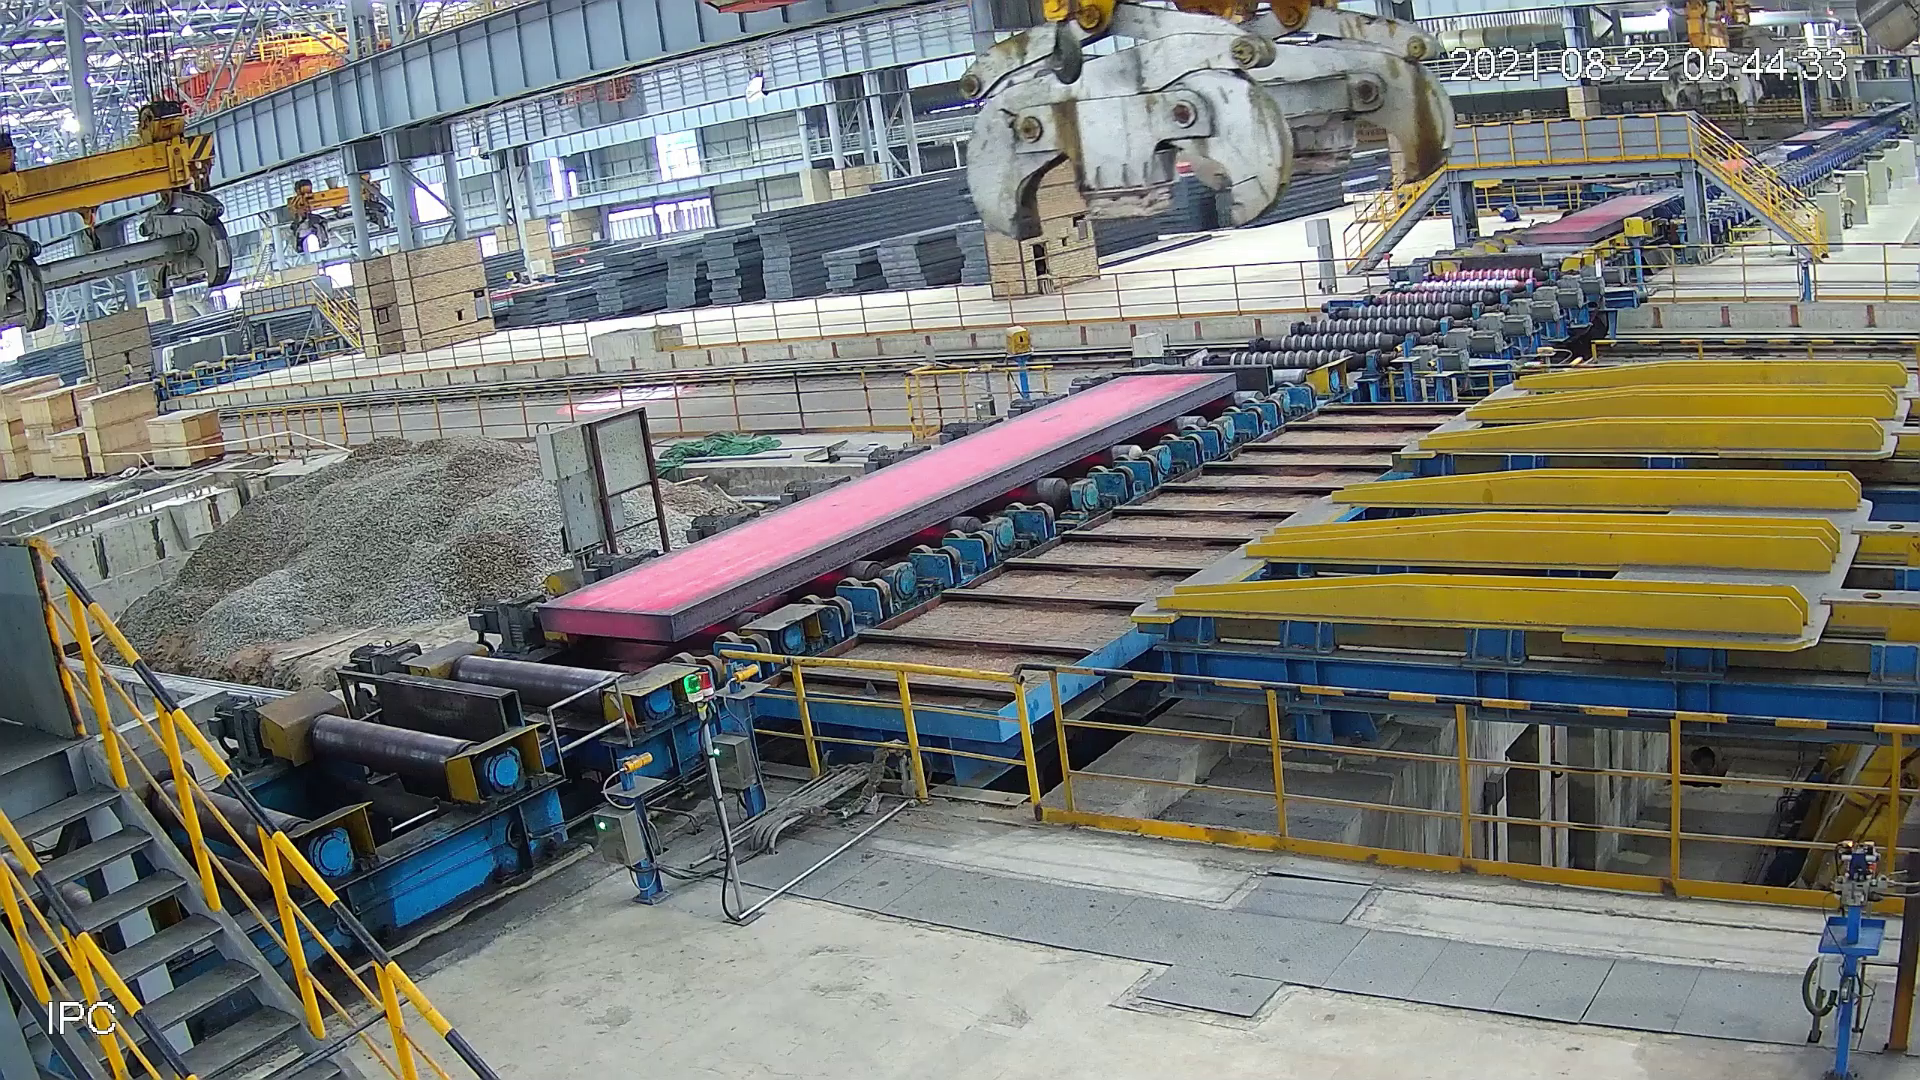crane: (949, 1, 1462, 251)
slab: (543, 363, 1247, 649), (1511, 183, 1692, 248)
